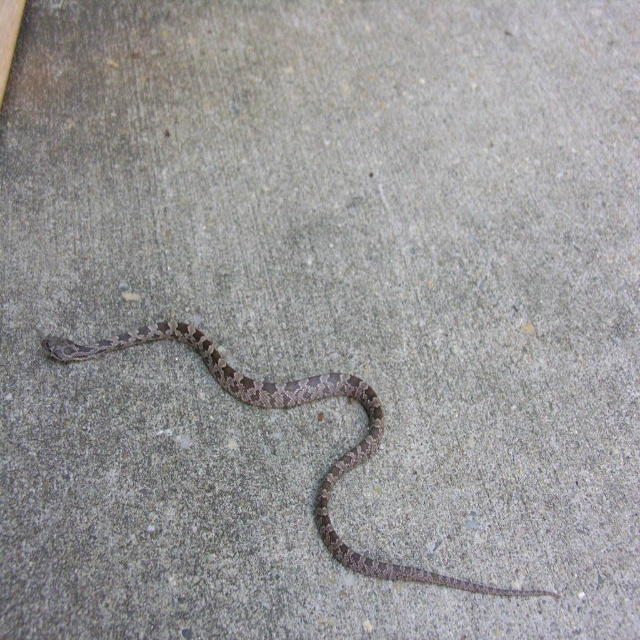Snake: (42, 318, 562, 600)
